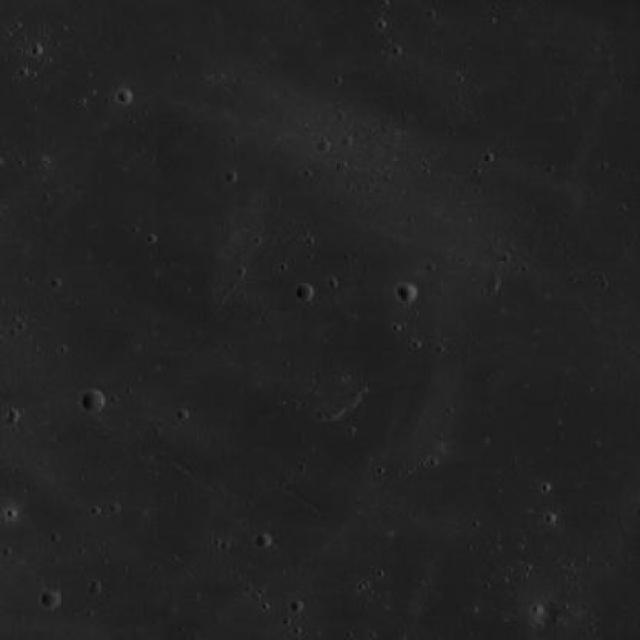crater: (84, 390, 108, 412), (298, 286, 318, 305), (396, 284, 414, 304), (43, 590, 62, 607)
